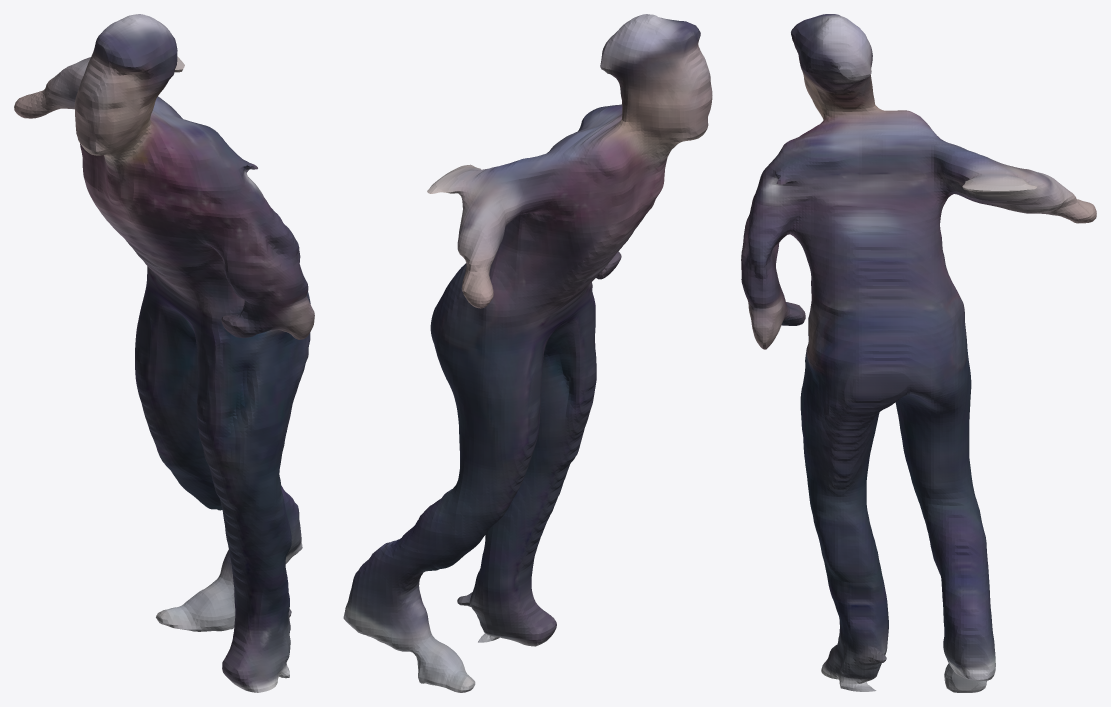
Rendered from 0102_tex.glb.
3 views of the same model, side by side, from view 1: azimuth 30°, elevation 25°; view 2: azimuth 150°, elevation 25°; view 3: azimuth 270°, elevation 25° (orthographic). The views are drawn at different scales.
Parts seen in each view (by area): view 1: 0102_tex.obj; view 2: 0102_tex.obj; view 3: 0102_tex.obj.
Part boxes in pixels (x1=…): 0102_tex.obj: x1=14, y1=14, x2=314, y2=692; 0102_tex.obj: x1=343, y1=14, x2=712, y2=692; 0102_tex.obj: x1=741, y1=14, x2=1096, y2=692.
Size of the model in its own units: 0.3942 by 0.8692 by 0.4635.
